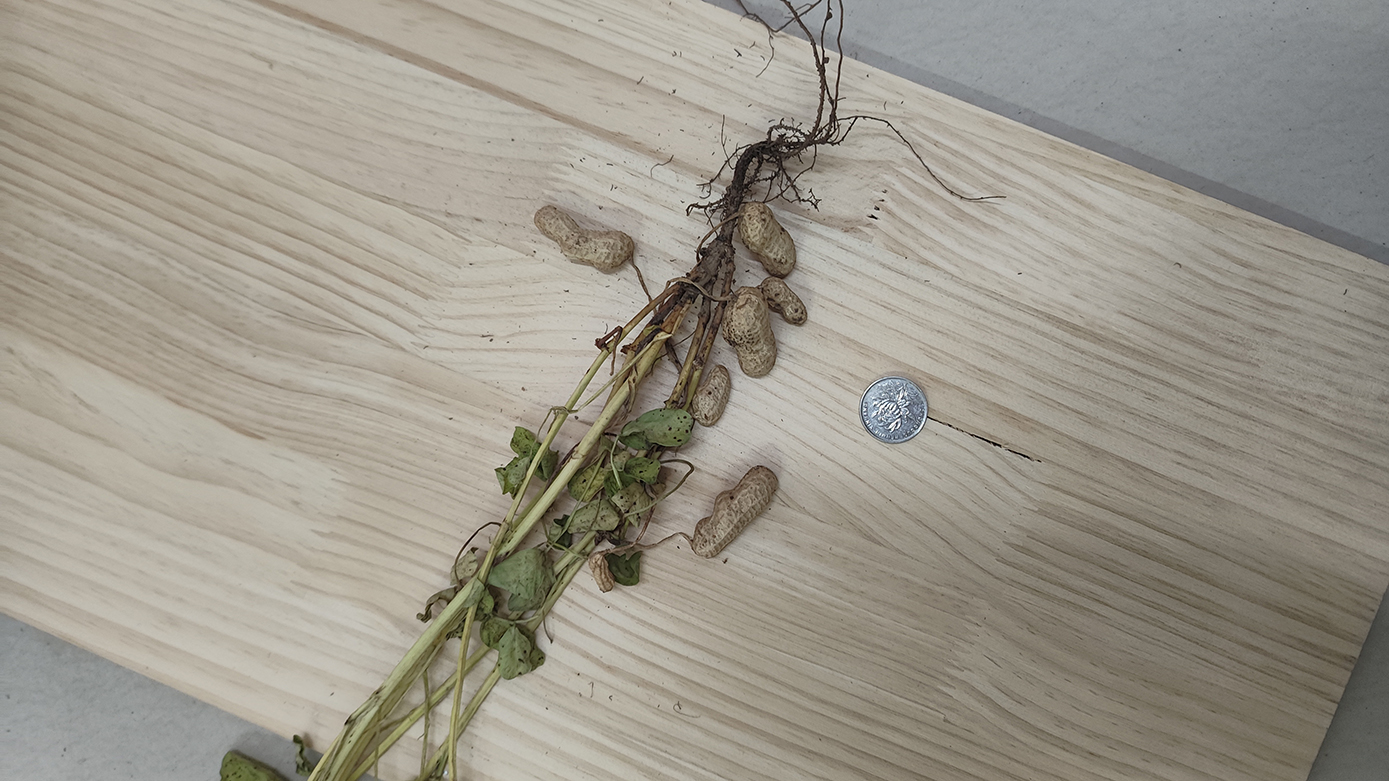h: (691, 465, 780, 557), (534, 205, 635, 273), (722, 286, 776, 379), (738, 201, 796, 279), (692, 364, 731, 427), (762, 275, 808, 326)
l: (588, 551, 613, 592)
